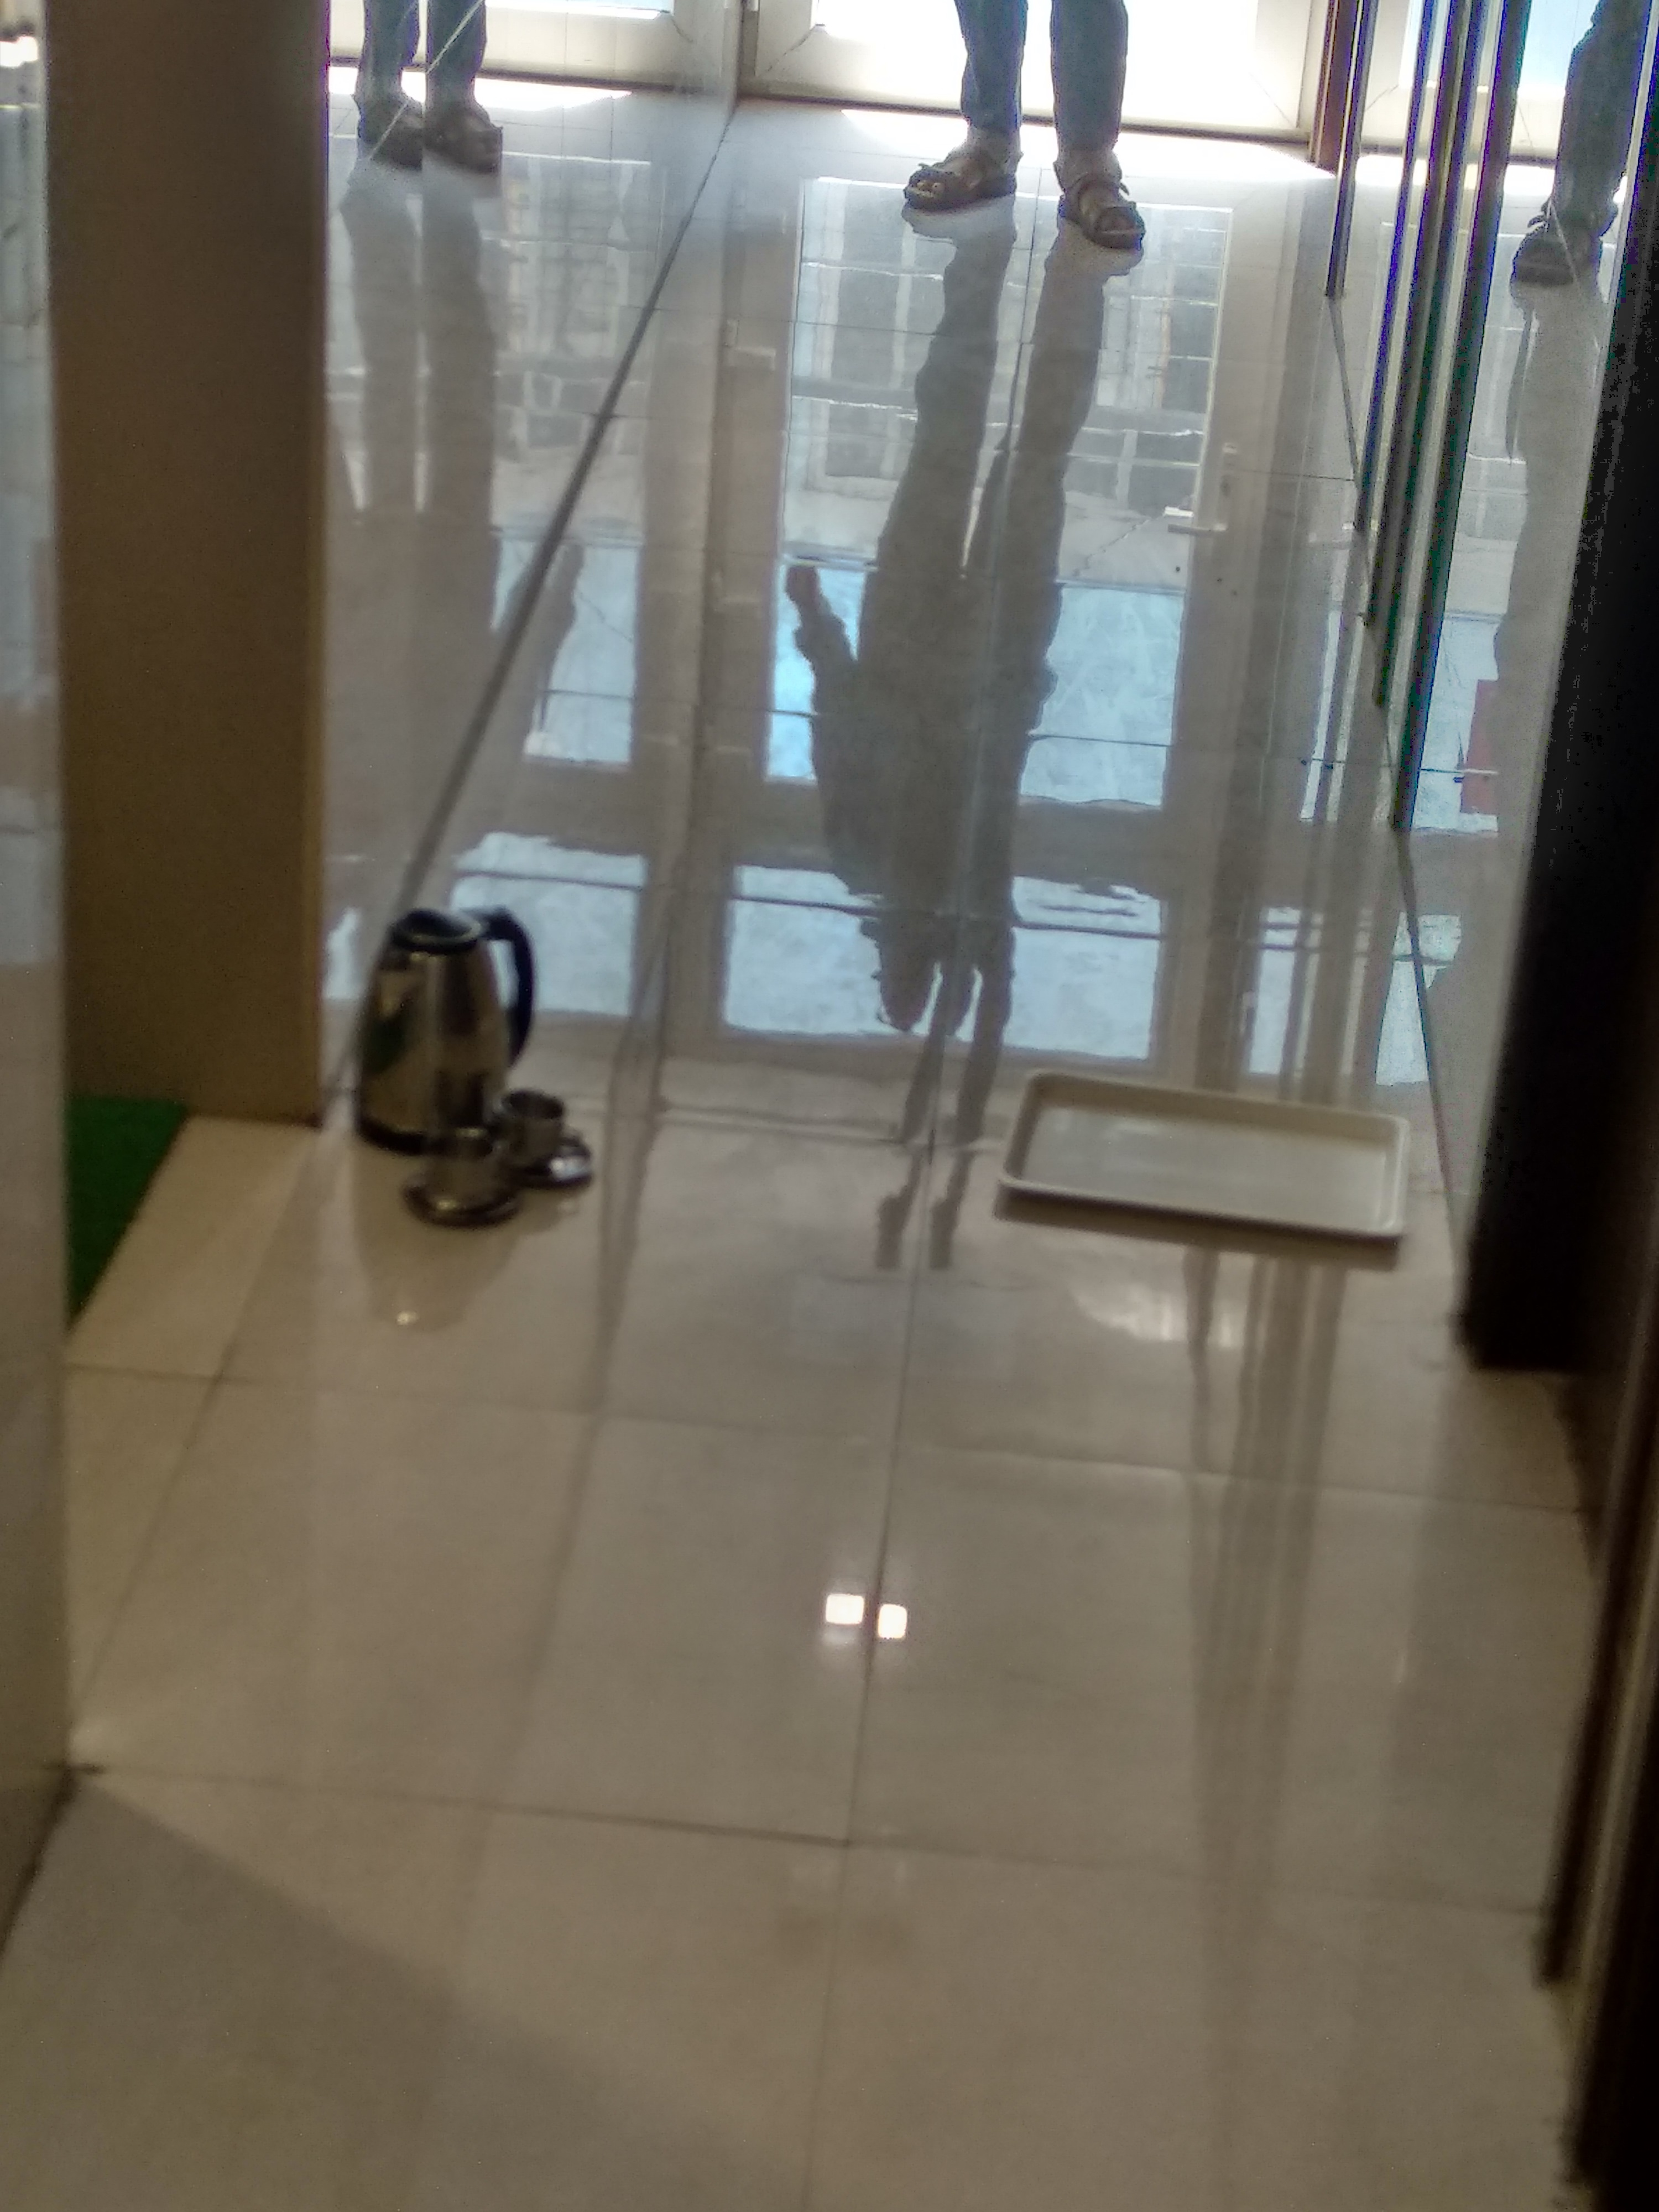CUP: (504, 1092, 573, 1172), (436, 1139, 498, 1209)
JUG: (369, 904, 505, 1118)
